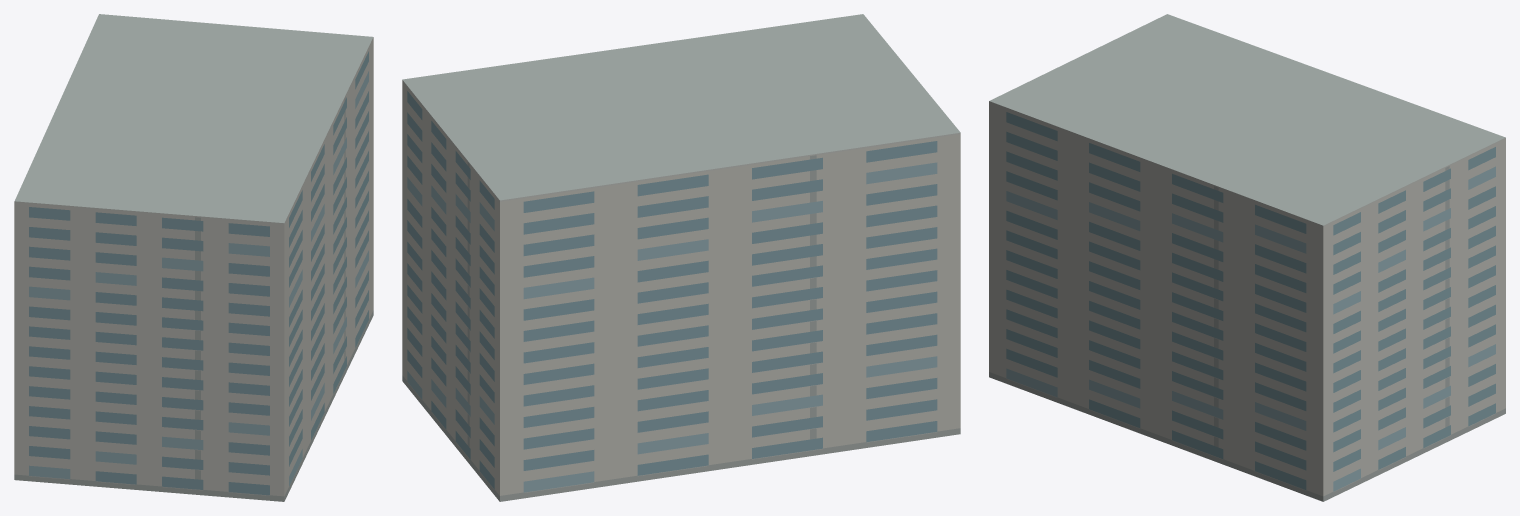
The model's file is survey-upis-32732947.glb.
The picture shows the model from 3 angles, left to right: view 1: azimuth 30°, elevation 25°; view 2: azimuth 150°, elevation 25°; view 3: azimuth 270°, elevation 25°; orthographic projection. The views are drawn at different scales.
Parts seen in each view (by area): view 1: survey-upis-32732947.tmp; view 2: survey-upis-32732947.tmp; view 3: survey-upis-32732947.tmp.
Part boxes in pixels (left/top/right/bottom): survey-upis-32732947.tmp: left=14, top=14, right=373, bottom=501; survey-upis-32732947.tmp: left=402, top=14, right=960, bottom=501; survey-upis-32732947.tmp: left=989, top=14, right=1505, bottom=501.
Bounding box in the file's own units: 95.25 × 57.95 × 98.25.
